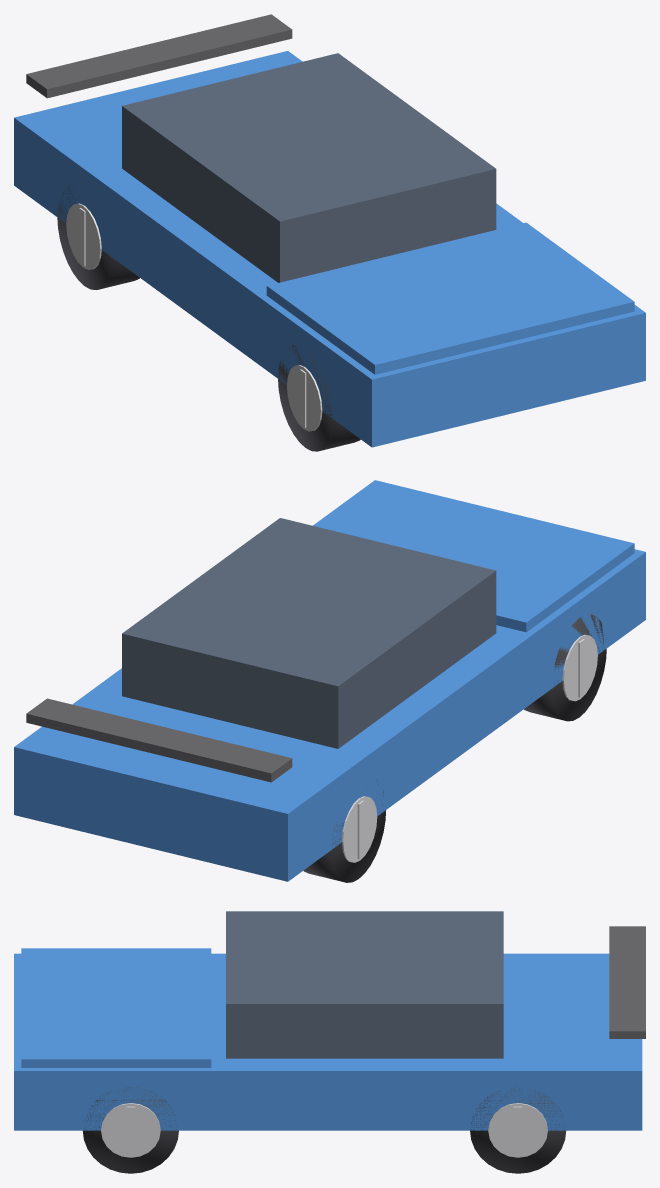
Rendered from SportsCar.fbx.
3 views of the same model, one above another, from view 1: azimuth 30°, elevation 25°; view 2: azimuth 150°, elevation 25°; view 3: azimuth 270°, elevation 25° (orthographic). The views are drawn at different scales.
Parts seen in each view (by area): view 1: Cabin, Body, Hood, Spoiler, Wheel_FR, Wheel_RR; view 2: Body, Cabin, Hood, Spoiler, Wheel_FR, Wheel_RR; view 3: Body, Cabin, Hood, Wheel_RL, Wheel_FL, Spoiler.
Part boxes in pixels (x1,y1,x2,y2): Cabin: [122, 53, 496, 282]; Body: [14, 51, 645, 447]; Hood: [266, 222, 634, 374]; Spoiler: [26, 14, 292, 98]; Wheel_FR: [278, 344, 360, 451]; Wheel_RR: [57, 184, 139, 289]; Body: [14, 549, 645, 881]; Cabin: [122, 518, 496, 748]; Hood: [313, 480, 634, 632]; Spoiler: [26, 698, 292, 782]; Wheel_FR: [524, 614, 606, 721]; Wheel_RR: [303, 779, 385, 882]; Body: [14, 953, 642, 1130]; Cabin: [226, 911, 503, 1058]; Hood: [21, 948, 211, 1067]; Wheel_RL: [470, 1086, 566, 1173]; Wheel_FL: [83, 1087, 178, 1173]; Spoiler: [609, 926, 645, 1038].
Bounding box in the file's own units: 1.94 × 1.19 × 4.33.
